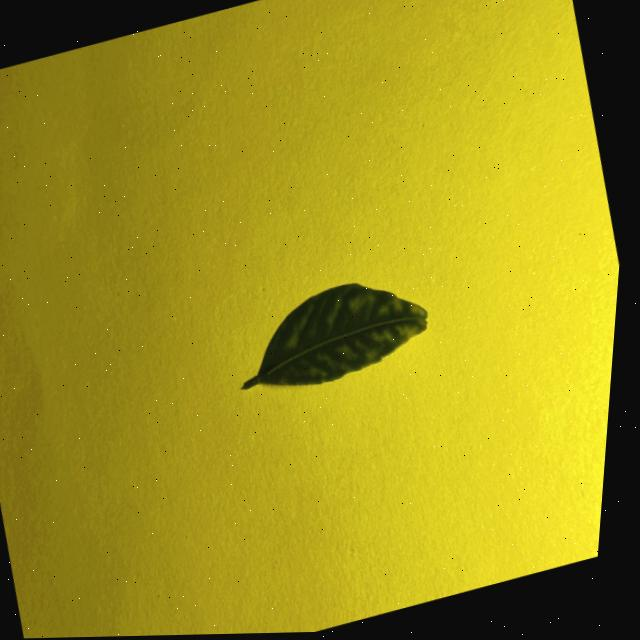greening: (241, 283, 426, 389)
